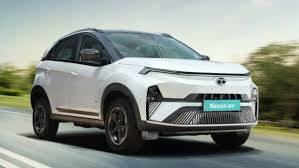XUV 400: (29, 27, 262, 154)
